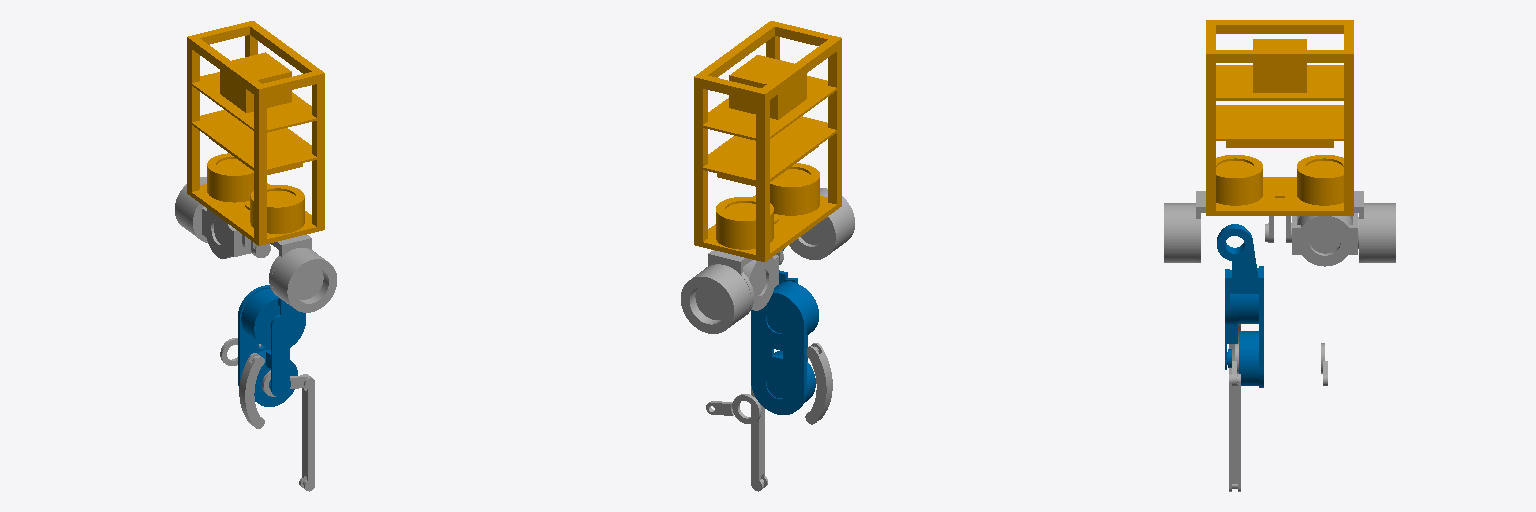
robot.urdf — v6biped_urdf_v4_shortfoot:
<?xml version="1.0" ?>
<robot name="v6biped_urdf_v4_shortfoot">

<material name="silver">
  <color rgba="0.700 0.700 0.700 1.000"/>
</material>

<link name="base_link">
  <inertial>
    <origin xyz="0.0 -1.1079155761136642e-17 0.12388403789312377" rpy="0 0 0"/>
    <mass value="9.619993857102388"/>
    <inertia ixx="0.16800197225609406" iyy="0.11452773293356491" izz="0.08167906458042659" ixy="-7.567101647509845e-18" iyz="3.5823713287208697e-17" ixz="1.0574368047855385e-19"/>
  </inertial>
  <visual>
    <origin xyz="0 0 0" rpy="0 0 0"/>
    <geometry>
      <mesh filename="meshes/base_link.stl" scale="0.001 0.001 0.001"/>
    </geometry>
    <material name="silver"/>
    <material/>
  </visual>
  <collision>
    <origin xyz="0 0 0.1749" rpy="0 0 0"/>
    <geometry>
       <box size="0.160 0.300 0.365"/>
    </geometry>
  </collision>
</link>

<link name="01_L_hip_z_1">
  <inertial>
    <origin xyz="-1.1308239814118704e-17 0.07453971578674487 -0.07348511429496346" rpy="0 0 0"/>
    <mass value="2.908965938735465"/>
    <inertia ixx="0.014281037235361088" iyy="0.006972829556692619" izz="0.012359988335792702" ixy="2.792240021015808e-20" iyz="0.003102675102721171" ixz="-9.212449889174042e-19"/>
  </inertial>
  <visual>
    <origin xyz="0.0 -0.09 -0.0003" rpy="0 0 0"/>
    <geometry>
      <mesh filename="meshes/01_L_hip_z_1.stl" scale="0.001 0.001 0.001"/>
    </geometry>
    <material name="silver"/>
  </visual>
</link>

<link name="02_L_hip_y_1">
  <inertial>
    <origin xyz="0.0009043176082057605 -0.07583170485891583 -1.3877787807814457e-17" rpy="0 0 0"/>
    <mass value="2.0377990564836805"/>
    <inertia ixx="0.004244592152071132" iyy="0.002598711164799511" izz="0.003650015737189906" ixy="2.1529548114893157e-06" iyz="0.0" ixz="-4.607859233063394e-19"/>
  </inertial>
  <visual>
    <origin xyz="0.0 -0.168 0.087" rpy="0 0 0"/>
    <geometry>
      <mesh filename="meshes/02_L_hip_y_1.stl" scale="0.001 0.001 0.001"/>
    </geometry>
    <material name="silver"/>
  </visual>
</link>

<link name="03_L_hip_x_COLLISION_1">
  <inertial>
    <origin xyz="-0.023908482594606855 -0.02426485983445889 -0.18585601361777113" rpy="0 0 0"/>
    <mass value="3.5805439636700287"/>
    <inertia ixx="0.027780896864440463" iyy="0.029615218880743976" izz="0.005221574111910782" ixy="-0.00037958734093934785" iyz="-0.0017591880380498914" ixz="-0.0027718637898816035"/>
  </inertial>
  <visual>
    <origin xyz="-0.0272 -0.091 0.087" rpy="0 0 0"/>
    <geometry>
      <mesh filename="meshes/03_L_hip_x_COLLISION_1.stl" scale="0.001 0.001 0.001"/>
    </geometry>
    <material name="silver"/>
    <material/>
  </visual>
  <collision>
    <origin xyz="-0.0272 -0.02 -0.205" rpy="0 0 0"/>
    <geometry>
      <box size="0.12 0.08 0.27"/>
    </geometry>
  </collision>
</link>

<link name="04_L_knee_rocker_1">
  <inertial>
    <origin xyz="-0.01761954319685695 0.0025763920301442172 -0.028197163363816474" rpy="0 0 0"/>
    <mass value="0.15488700659123303"/>
    <inertia ixx="0.00015024114816780502" iyy="0.0002236908852147109" izz="8.077275595596428e-05" ixy="-7.510072938964019e-06" iyz="-1.2018629039793269e-05" ixz="-7.121565568717503e-05"/>
  </inertial>
  <visual>
    <origin xyz="0.003 -0.095774 0.228" rpy="0 0 0"/>
    <geometry>
      <mesh filename="meshes/04_L_knee_rocker_1.stl" scale="0.001 0.001 0.001"/>
    </geometry>
    <material name="silver"/>
  </visual>
</link>

<link name="05_L_knee_link_1">
  <inertial>
    <origin xyz="-0.01531283689309905 0.0 -0.0700003286540784" rpy="0 0 0"/>
    <mass value="0.21980714584506778"/>
    <inertia ixx="0.000441907788744339" iyy="0.00045427482803899605" izz="3.542795472807154e-05" ixy="0.0" iyz="8.673617379884035e-19" ixz="-8.673617379884035e-19"/>
  </inertial>
  <visual>
    <origin xyz="0.050693 -0.091074 0.304324" rpy="0 0 0"/>
    <geometry>
      <mesh filename="meshes/05_L_knee_link_1.stl" scale="0.001 0.001 0.001"/>
    </geometry>
    <material name="silver"/>
  </visual>
</link>

<link name="06_L_ankle_rocker_1">
  <inertial>
    <origin xyz="0.024092446226604218 0.005993892267881898 -0.004248148300943111" rpy="0 0 0"/>
    <mass value="0.1199950147888805"/>
    <inertia ixx="2.8507068069210523e-05" iyy="0.0001482193650997471" izz="0.00012238696786957197" ixy="-6.666896206283617e-06" iyz="1.1755536787711948e-06" ixz="1.7084744592853088e-05"/>
  </inertial>
  <visual>
    <origin xyz="0.003 -0.082774 0.368" rpy="0 0 0"/>
    <geometry>
      <mesh filename="meshes/06_L_ankle_rocker_1.stl" scale="0.001 0.001 0.001"/>
    </geometry>
    <material name="silver"/>
  </visual>
</link>

<link name="07_L_shank_link_main_1">
  <inertial>
    <origin xyz="-0.0017014067304576396 -0.005734080520731988 -0.11013075690935742" rpy="0 0 0"/>
    <mass value="0.45787218753949377"/>
    <inertia ixx="0.002498857755266398" iyy="0.002547825121452449" izz="8.860874449439669e-05" ixy="-5.966718175119462e-07" iyz="-3.2662126914509426e-05" ixz="2.6336370383188163e-05"/>
  </inertial>
  <visual>
    <origin xyz="0.003 -0.097574 0.368" rpy="0 0 0"/>
    <geometry>
      <mesh filename="meshes/07_L_shank_link_main_1.stl" scale="0.001 0.001 0.001"/>
    </geometry>
    <material name="silver"/>
  </visual>
</link>

<link name="08_L_shank_ankle_link_1">
  <inertial>
    <origin xyz="0.03527776433437844 8.326672684688674e-17 -0.01750000000000007" rpy="0 0 0"/>
    <mass value="0.2800894766748255"/>
    <inertia ixx="0.0014663255129204467" iyy="0.001460272166081078" izz="2.2626448490447454e-05" ixy="-3.187554387107383e-17" iyz="1.734723475976807e-18" ixz="1.734723475976807e-18"/>
  </inertial>
  <visual>
    <origin xyz="-0.038681 -0.091074 0.481024" rpy="0 0 0"/>
    <geometry>
      <mesh filename="meshes/08_L_shank_ankle_link_1.stl" scale="0.001 0.001 0.001"/>
    </geometry>
    <material name="silver"/>
  </visual>
</link>

<link name="09_L_foot_short_COLLISION_1">
  <inertial>
    <origin xyz="0.036260429903504456 8.326672684688674e-17 -0.025750661403168285" rpy="0 0 0"/>
    <mass value="0.25"/>
    <!-- <mass value="0.18500497869847327"/> -->
    <inertia ixx="3.4168841028289765e-05" iyy="0.00034625245806910177" izz="0.000346092188522662" ixy="2.5804011705155006e-17" iyz="1.734723475976807e-18" ixz="8.876314501719482e-06"/>
  </inertial>
  <visual>
    <origin xyz="0.003 -0.091074 0.603" rpy="0 0 0"/>
    <geometry>
      <mesh filename="meshes/09_L_foot_short_COLLISION_1.stl" scale="0.001 0.001 0.001"/>
    </geometry>
    <material name="silver"/>
    <material/>
  </visual>
  <collision>
    <origin xyz="0.003 -0.091074 0.603" rpy="0 0 0"/>
    <geometry>
      <mesh filename="meshes/09_L_foot_short_COLLISION_1.stl" scale="0.001 0.001 0.001"/>
    </geometry>
  </collision>
</link>

<link name="10_R_hip_z_1">
  <inertial>
    <origin xyz="-8.552025948177327e-18 -0.07453971578674481 -0.07348511429497799" rpy="0 0 0"/>
    <mass value="2.9089659387354665"/>
    <inertia ixx="0.014281037235443772" iyy="0.0069728295565254315" izz="0.012359988335542804" ixy="-2.1926362563069666e-18" iyz="-0.0031026751027150856" ixz="-1.3848870923820681e-18"/>
  </inertial>
  <visual>
    <origin xyz="0.0 0.09 -0.0003" rpy="0 0 0"/>
    <geometry>
      <mesh filename="meshes/10_R_hip_z_1.stl" scale="0.001 0.001 0.001"/>
    </geometry>
    <material name="silver"/>
  </visual>
</link>

<link name="11_R_hip_y_1">
  <inertial>
    <origin xyz="0.0009043176082057572 0.07583170485891579 -2.7755575615628914e-17" rpy="0 0 0"/>
    <mass value="2.0377990564836805"/>
    <inertia ixx="0.004244592152071132" iyy="0.002598711164799509" izz="0.0036500157371899024" ixy="-2.1529548114918636e-06" iyz="0.0" ixz="-4.607859233063394e-19"/>
  </inertial>
  <visual>
    <origin xyz="0.0 0.168 0.087" rpy="0 0 0"/>
    <geometry>
      <mesh filename="meshes/11_R_hip_y_1.stl" scale="0.001 0.001 0.001"/>
    </geometry>
    <material name="silver"/>
  </visual>
</link>

<link name="12_R_hip_x_COLLISION_1">
  <inertial>
    <origin xyz="-0.02390848259462098 0.024264859834458904 -0.18585601361777102" rpy="0 0 0"/>
    <mass value="3.5805439636700305"/>
    <inertia ixx="0.02778089686473184" iyy="0.029615218880938154" izz="0.005221574111813728" ixy="0.0003795873409377429" iyz="0.0017591880380499053" ixz="-0.002771863789880305"/>
  </inertial>
  <visual>
    <origin xyz="-0.0272 0.091 0.087" rpy="0 0 0"/>
    <geometry>
      <mesh filename="meshes/12_R_hip_x_COLLISION_1.stl" scale="0.001 0.001 0.001"/>
    </geometry>
    <material name="silver"/>
    <material/>
  </visual>
  <collision>
    <origin xyz="-0.0272 0.02 -0.205" rpy="0 0 0"/>
    <geometry>
      <box size="0.12 0.08 0.27"/>
    </geometry>
  </collision>
</link>

<link name="13_R_knee_rocker_1">
  <inertial>
    <origin xyz="-0.017619543196855627 -0.0025763920301442172 -0.028197163363816863" rpy="0 0 0"/>
    <mass value="0.15488700659123308"/>
    <inertia ixx="0.00015024114816484732" iyy="0.00022369088521269342" izz="8.077275595690494e-05" ixy="7.510072938963586e-06" iyz="1.2018629039793702e-05" ixz="-7.121565568897037e-05"/>
  </inertial>
  <visual>
    <origin xyz="0.003 0.095774 0.228" rpy="0 0 0"/>
    <geometry>
      <mesh filename="meshes/13_R_knee_rocker_1.stl" scale="0.001 0.001 0.001"/>
    </geometry>
    <material name="silver"/>
  </visual>
</link>

<link name="14_R_knee_link_1">
  <inertial>
    <origin xyz="-0.01531283689309905 0.0 -0.0700003286540784" rpy="0 0 0"/>
    <mass value="0.21980714584506778"/>
    <inertia ixx="0.000441907788744339" iyy="0.00045427482803899605" izz="3.542795472807154e-05" ixy="0.0" iyz="-8.673617379884035e-19" ixz="-8.673617379884035e-19"/>
  </inertial>
  <visual>
    <origin xyz="0.050693 0.091074 0.304324" rpy="0 0 0"/>
    <geometry>
      <mesh filename="meshes/14_R_knee_link_1.stl" scale="0.001 0.001 0.001"/>
    </geometry>
    <material name="silver"/>
  </visual>
</link>

<link name="15_R_ankle_rocker_1">
  <inertial>
    <origin xyz="0.024092446226739176 -0.005993892267881884 -0.004248148301098875" rpy="0 0 0"/>
    <mass value="0.11999501478888035"/>
    <inertia ixx="2.8507068314108375e-05" iyy="0.00014821936526217966" izz="0.00012238696778710603" ixy="6.666896206294242e-06" iyz="-1.1755536787824705e-06" ixz="1.7084744489519405e-05"/>
  </inertial>
  <visual>
    <origin xyz="0.003 0.082774 0.368" rpy="0 0 0"/>
    <geometry>
      <mesh filename="meshes/15_R_ankle_rocker_1.stl" scale="0.001 0.001 0.001"/>
    </geometry>
    <material name="silver"/>
  </visual>
</link>

<link name="16_R_shank_link_main_1">
  <inertial>
    <origin xyz="-0.0017014067304932257 0.005734080520732071 -0.11013075690935742" rpy="0 0 0"/>
    <mass value="0.45787218753949305"/>
    <inertia ixx="0.002498857755360809" iyy="0.0025478251215153153" izz="8.860874446289455e-05" ixy="5.966718174119556e-07" iyz="3.2662126914509426e-05" ixz="2.6336370384982518e-05"/>
  </inertial>
  <visual>
    <origin xyz="0.003 0.097574 0.368" rpy="0 0 0"/>
    <geometry>
      <mesh filename="meshes/16_R_shank_link_main_1.stl" scale="0.001 0.001 0.001"/>
    </geometry>
    <material name="silver"/>
  </visual>
</link>

<link name="17_R_shank_ankle_link_1">
  <inertial>
    <origin xyz="0.03527776433437844 0.0 -0.01750000000000007" rpy="0 0 0"/>
    <mass value="0.2800894766748255"/>
    <inertia ixx="0.0014663255129204467" iyy="0.001460272166081078" izz="2.2626448490448755e-05" ixy="-3.165870343657673e-17" iyz="0.0" ixz="1.734723475976807e-18"/>
  </inertial>
  <visual>
    <origin xyz="-0.038681 0.091074 0.481024" rpy="0 0 0"/>
    <geometry>
      <mesh filename="meshes/17_R_shank_ankle_link_1.stl" scale="0.001 0.001 0.001"/>
    </geometry>
    <material name="silver"/>
  </visual>
</link>

<link name="18_R_foot_short_COLLISION_1">
  <inertial>
    <origin xyz="0.03626042990350446 -1.3877787807814457e-17 -0.025750661403168174" rpy="0 0 0"/>
    <mass value="0.25"/>
    <!-- <mass value="0.18500497869847327"/> -->
    <inertia ixx="3.416884102826201e-05" iyy="0.000346252458069074" izz="0.00034609218852266264" ixy="2.6020852139652106e-17" iyz="0.0" ixz="8.876314501719048e-06"/>
  </inertial>
  <visual>
    <origin xyz="0.003 0.091074 0.603" rpy="0 0 0"/>
    <geometry>
      <mesh filename="meshes/18_R_foot_short_COLLISION_1.stl" scale="0.001 0.001 0.001"/>
    </geometry>
    <material name="silver"/>
    <material/>
  </visual>
  <collision>
    <origin xyz="0.003 0.091074 0.603" rpy="0 0 0"/>
    <geometry>
      <mesh filename="meshes/18_R_foot_short_COLLISION_1.stl" scale="0.001 0.001 0.001"/>
    </geometry>
  </collision>
</link>

<joint name="01_L_hip_z" type="revolute">
  <origin xyz="0.0 0.09 0.0003" rpy="0 0 0"/>
  <parent link="base_link"/>
  <child link="01_L_hip_z_1"/>
  <axis xyz="0.0 0.0 -1.0"/>
  <limit upper="1.570796" lower="-1.570796" effort="81" velocity="13.333"/>
</joint>
<transmission name="01_L_hip_z_tran">
  <type>transmission_interface/SimpleTransmission</type>
  <joint name="01_L_hip_z">
    <hardwareInterface>PositionJointInterface</hardwareInterface>
  </joint>
  <actuator name="01_L_hip_z_actr">
    <hardwareInterface>PositionJointInterface</hardwareInterface>
    <mechanicalReduction>1</mechanicalReduction>
  </actuator>
</transmission>

<joint name="02_L_hip_y" type="revolute">
  <origin xyz="0.0 0.078 -0.0873" rpy="0 0 0"/>
  <parent link="01_L_hip_z_1"/>
  <child link="02_L_hip_y_1"/>
  <axis xyz="0.0 -1.0 0.0"/>
  <limit upper="1.570796" lower="-1.570796" effort="90" velocity="12"/>
</joint>
<transmission name="02_L_hip_y_tran">
  <type>transmission_interface/SimpleTransmission</type>
  <joint name="02_L_hip_y">
    <hardwareInterface>PositionJointInterface</hardwareInterface>
  </joint>
  <actuator name="02_L_hip_y_actr">
    <hardwareInterface>PositionJointInterface</hardwareInterface>
    <mechanicalReduction>1</mechanicalReduction>
  </actuator>
</transmission>

<joint name="03_L_hip_x" type="revolute">
  <origin xyz="0.0272 -0.077 0.0" rpy="0 0 0"/>
  <parent link="02_L_hip_y_1"/>
  <child link="03_L_hip_x_COLLISION_1"/>
  <axis xyz="1.0 0.0 0.0"/>
  <limit upper="0.628319" lower="-0.628319" effort="81" velocity="13.333"/>
</joint>
<transmission name="03_L_hip_x_tran">
  <type>transmission_interface/SimpleTransmission</type>
  <joint name="03_L_hip_x">
    <hardwareInterface>PositionJointInterface</hardwareInterface>
  </joint>
  <actuator name="03_L_hip_x_actr">
    <hardwareInterface>PositionJointInterface</hardwareInterface>
    <mechanicalReduction>1</mechanicalReduction>
  </actuator>
</transmission>

<joint name="04_L_knee_rocker_RIGID" type="fixed">
  <origin xyz="-0.0302 0.004774 -0.141" rpy="0 0 0"/>
  <parent link="03_L_hip_x_COLLISION_1"/>
  <child link="04_L_knee_rocker_1"/>
</joint>

<joint name="05_L_knee_link_RIGID" type="fixed">
  <origin xyz="-0.047693 -0.0047 -0.076324" rpy="0 0 0"/>
  <parent link="04_L_knee_rocker_1"/>
  <child link="05_L_knee_link_1"/>
</joint>

<joint name="06_L_ankle_rocker_RIGID" type="fixed">
  <origin xyz="-0.0302 -0.008226 -0.281" rpy="0 0 0"/>
  <parent link="03_L_hip_x_COLLISION_1"/>
  <child link="06_L_ankle_rocker_1"/>
</joint>

<joint name="07_L_shank_link_main" type="revolute">
  <origin xyz="-0.0302 0.006574 -0.281" rpy="0 0 0"/>
  <parent link="03_L_hip_x_COLLISION_1"/>
  <child link="07_L_shank_link_main_1"/>
  <axis xyz="0.0 1.0 0.0"/>
  <limit upper="1.745329" lower="-0.087266" effort="81" velocity="13.333"/>
</joint>
<transmission name="07_L_shank_link_main_tran">
  <type>transmission_interface/SimpleTransmission</type>
  <joint name="07_L_shank_link_main">
    <hardwareInterface>PositionJointInterface</hardwareInterface>
  </joint>
  <actuator name="07_L_shank_link_main_actr">
    <hardwareInterface>PositionJointInterface</hardwareInterface>
    <mechanicalReduction>1</mechanicalReduction>
  </actuator>
</transmission>

<joint name="08_L_shank_ankle_link_RIGID" type="fixed">
  <origin xyz="0.041681 -0.0065 -0.113024" rpy="0 0 0"/>
  <parent link="07_L_shank_link_main_1"/>
  <child link="08_L_shank_ankle_link_1"/>
</joint>

<joint name="09_L_foot" type="revolute">
  <origin xyz="0.0 -0.0065 -0.235" rpy="0 0 0"/>
  <parent link="07_L_shank_link_main_1"/>
  <child link="09_L_foot_short_COLLISION_1"/>
  <axis xyz="0.0 1.0 0.0"/>
  <limit upper="0.872665" lower="-0.872665" effort="45" velocity="10.667"/>
</joint>
<transmission name="09_L_foot_tran">
  <type>transmission_interface/SimpleTransmission</type>
  <joint name="09_L_foot">
    <hardwareInterface>PositionJointInterface</hardwareInterface>
  </joint>
  <actuator name="09_L_foot_actr">
    <hardwareInterface>PositionJointInterface</hardwareInterface>
    <mechanicalReduction>1</mechanicalReduction>
  </actuator>
</transmission>

<joint name="10_R_hip_z" type="revolute">
  <origin xyz="0.0 -0.09 0.0003" rpy="0 0 0"/>
  <parent link="base_link"/>
  <child link="10_R_hip_z_1"/>
  <axis xyz="0.0 0.0 -1.0"/>
  <limit upper="1.570796" lower="-1.570796" effort="81" velocity="13.333"/>
</joint>
<transmission name="10_R_hip_z_tran">
  <type>transmission_interface/SimpleTransmission</type>
  <joint name="10_R_hip_z">
    <hardwareInterface>PositionJointInterface</hardwareInterface>
  </joint>
  <actuator name="10_R_hip_z_actr">
    <hardwareInterface>PositionJointInterface</hardwareInterface>
    <mechanicalReduction>1</mechanicalReduction>
  </actuator>
</transmission>

<joint name="11_R_hip_y" type="revolute">
  <origin xyz="0.0 -0.078 -0.0873" rpy="0 0 0"/>
  <parent link="10_R_hip_z_1"/>
  <child link="11_R_hip_y_1"/>
  <axis xyz="0.0 1.0 0.0"/>
  <limit upper="1.570796" lower="-1.570796" effort="90" velocity="12"/>
</joint>
<transmission name="11_R_hip_y_tran">
  <type>transmission_interface/SimpleTransmission</type>
  <joint name="11_R_hip_y">
    <hardwareInterface>PositionJointInterface</hardwareInterface>
  </joint>
  <actuator name="11_R_hip_y_actr">
    <hardwareInterface>PositionJointInterface</hardwareInterface>
    <mechanicalReduction>1</mechanicalReduction>
  </actuator>
</transmission>

<joint name="12_R_hip_x" type="revolute">
  <origin xyz="0.0272 0.077 0.0" rpy="0 0 0"/>
  <parent link="11_R_hip_y_1"/>
  <child link="12_R_hip_x_COLLISION_1"/>
  <axis xyz="1.0 0.0 0.0"/>
  <limit upper="0.628319" lower="-0.628319" effort="81" velocity="13.333"/>
</joint>
<transmission name="12_R_hip_x_tran">
  <type>transmission_interface/SimpleTransmission</type>
  <joint name="12_R_hip_x">
    <hardwareInterface>PositionJointInterface</hardwareInterface>
  </joint>
  <actuator name="12_R_hip_x_actr">
    <hardwareInterface>PositionJointInterface</hardwareInterface>
    <mechanicalReduction>1</mechanicalReduction>
  </actuator>
</transmission>

<joint name="13_R_knee_rocker_RIGID" type="fixed">
  <origin xyz="-0.0302 -0.004774 -0.141" rpy="0 0 0"/>
  <parent link="12_R_hip_x_COLLISION_1"/>
  <child link="13_R_knee_rocker_1"/>
</joint>

<joint name="14_R_knee_link_PASSIVE" type="fixed">
  <origin xyz="-0.047693 0.0047 -0.076324" rpy="0 0 0"/>
  <parent link="13_R_knee_rocker_1"/>
  <child link="14_R_knee_link_1"/>
</joint>

<joint name="15_R_ankle_rocker_RIGID" type="fixed">
  <origin xyz="-0.0302 0.008226 -0.281" rpy="0 0 0"/>
  <parent link="12_R_hip_x_COLLISION_1"/>
  <child link="15_R_ankle_rocker_1"/>
</joint>

<joint name="16_R_shank_link_main" type="revolute">
  <origin xyz="-0.0302 -0.006574 -0.281" rpy="0 0 0"/>
  <parent link="12_R_hip_x_COLLISION_1"/>
  <child link="16_R_shank_link_main_1"/>
  <axis xyz="0.0 -1.0 0.0"/>
  <limit upper="0.087266" lower="-1.745329" effort="81" velocity="13.333"/>
</joint>
<transmission name="16_R_shank_link_main_tran">
  <type>transmission_interface/SimpleTransmission</type>
  <joint name="16_R_shank_link_main">
    <hardwareInterface>PositionJointInterface</hardwareInterface>
  </joint>
  <actuator name="16_R_shank_link_main_actr">
    <hardwareInterface>PositionJointInterface</hardwareInterface>
    <mechanicalReduction>1</mechanicalReduction>
  </actuator>
</transmission>

<joint name="17_R_shank_ankle_link_RIGID" type="fixed">
  <origin xyz="0.041681 0.0065 -0.113024" rpy="0 0 0"/>
  <parent link="16_R_shank_link_main_1"/>
  <child link="17_R_shank_ankle_link_1"/>
</joint>

<joint name="18_R_foot" type="revolute">
  <origin xyz="0.0 0.0065 -0.235" rpy="0 0 0"/>
  <parent link="16_R_shank_link_main_1"/>
  <child link="18_R_foot_short_COLLISION_1"/>
  <axis xyz="0.0 -1.0 0.0"/>
  <limit upper="0.872665" lower="-0.872665" effort="45" velocity="10.667"/>
</joint>
<transmission name="18_R_foot_tran">
  <type>transmission_interface/SimpleTransmission</type>
  <joint name="18_R_foot">
    <hardwareInterface>PositionJointInterface</hardwareInterface>
  </joint>
  <actuator name="18_R_foot_actr">
    <hardwareInterface>PositionJointInterface</hardwareInterface>
    <mechanicalReduction>1</mechanicalReduction>
  </actuator>
</transmission>

</robot>

--- What the picture shows (computed from the rendered views, not written in the file) ---
Views: 3 orthographic renders of the robot side by side, from view 1: azimuth 30°, elevation 25°; view 2: azimuth 150°, elevation 25°; view 3: azimuth 270°, elevation 25°.
Robot: v6biped_urdf_v4_shortfoot — 19 links, 18 joints (10 revolute, 8 fixed); root link base_link; default pose: every joint at zero.
Visible links, largest first — view 1: base_link, 12_R_hip_x_COLLISION_1, 10_R_hip_z_1, 17_R_shank_ankle_link_1, 02_L_hip_y_1, 14_R_knee_link_1, 01_L_hip_z_1; view 2: base_link, 12_R_hip_x_COLLISION_1, 01_L_hip_z_1, 10_R_hip_z_1, 14_R_knee_link_1, 02_L_hip_y_1, 17_R_shank_ankle_link_1, 06_L_ankle_rocker_1; view 3: base_link, 12_R_hip_x_COLLISION_1, 02_L_hip_y_1, 10_R_hip_z_1, 01_L_hip_z_1, 17_R_shank_ankle_link_1.
Link boxes in pixels (box(x1,y1,x2,y2)): base_link: box(187, 21, 324, 245); 12_R_hip_x_COLLISION_1: box(238, 285, 305, 406); 10_R_hip_z_1: box(251, 235, 336, 312); 17_R_shank_ankle_link_1: box(299, 374, 314, 491); 02_L_hip_y_1: box(202, 207, 250, 258); 14_R_knee_link_1: box(239, 353, 264, 428); 01_L_hip_z_1: box(175, 177, 250, 251); base_link: box(694, 21, 841, 261); 12_R_hip_x_COLLISION_1: box(751, 248, 818, 414); 01_L_hip_z_1: box(681, 250, 753, 333); 10_R_hip_z_1: box(776, 188, 854, 264); 14_R_knee_link_1: box(805, 343, 832, 424); 02_L_hip_y_1: box(743, 255, 778, 310); 17_R_shank_ankle_link_1: box(751, 386, 767, 491); 06_L_ankle_rocker_1: box(706, 394, 761, 423); base_link: box(1206, 20, 1353, 215); 12_R_hip_x_COLLISION_1: box(1217, 224, 1263, 387); 02_L_hip_y_1: box(1292, 213, 1358, 266); 10_R_hip_z_1: box(1164, 191, 1273, 262); 01_L_hip_z_1: box(1286, 191, 1395, 262); 17_R_shank_ankle_link_1: box(1229, 374, 1240, 491).
Bounding box of the posed robot: 0.1691 × 0.4696 × 0.9775 m (x, y, z).
9 mesh visuals loaded from 19 distinct referenced files (9 binary STL); not drawn: 10 (reference not matched to a file when rendering).